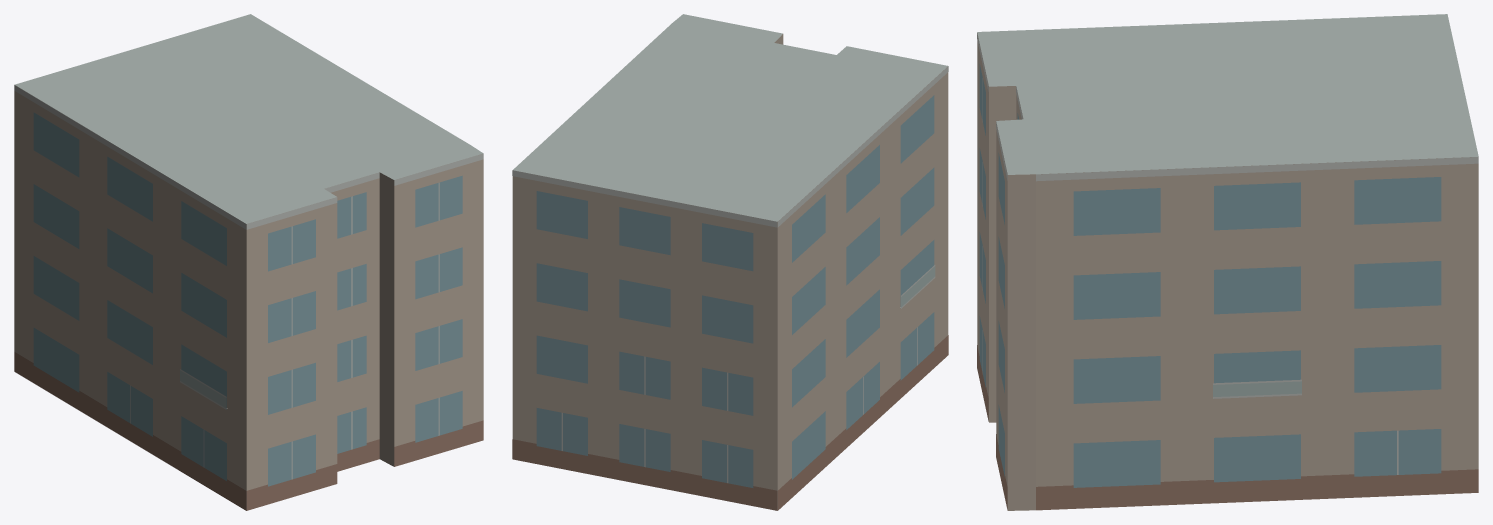
File: survey-upis-32843657.glb
The picture shows the model from 3 angles, left to right: view 1: azimuth 30°, elevation 25°; view 2: azimuth 150°, elevation 25°; view 3: azimuth 270°, elevation 25°; orthographic projection. The views are drawn at different scales.
Parts seen in each view (by area): view 1: survey-upis-32843657.tmp; view 2: survey-upis-32843657.tmp; view 3: survey-upis-32843657.tmp.
Part boxes in pixels (bbox=[...]): survey-upis-32843657.tmp: bbox=[14, 14, 483, 510]; survey-upis-32843657.tmp: bbox=[512, 14, 948, 510]; survey-upis-32843657.tmp: bbox=[977, 14, 1478, 510].
Size of the model in its own units: 12.23 by 11.9 by 16.11.
